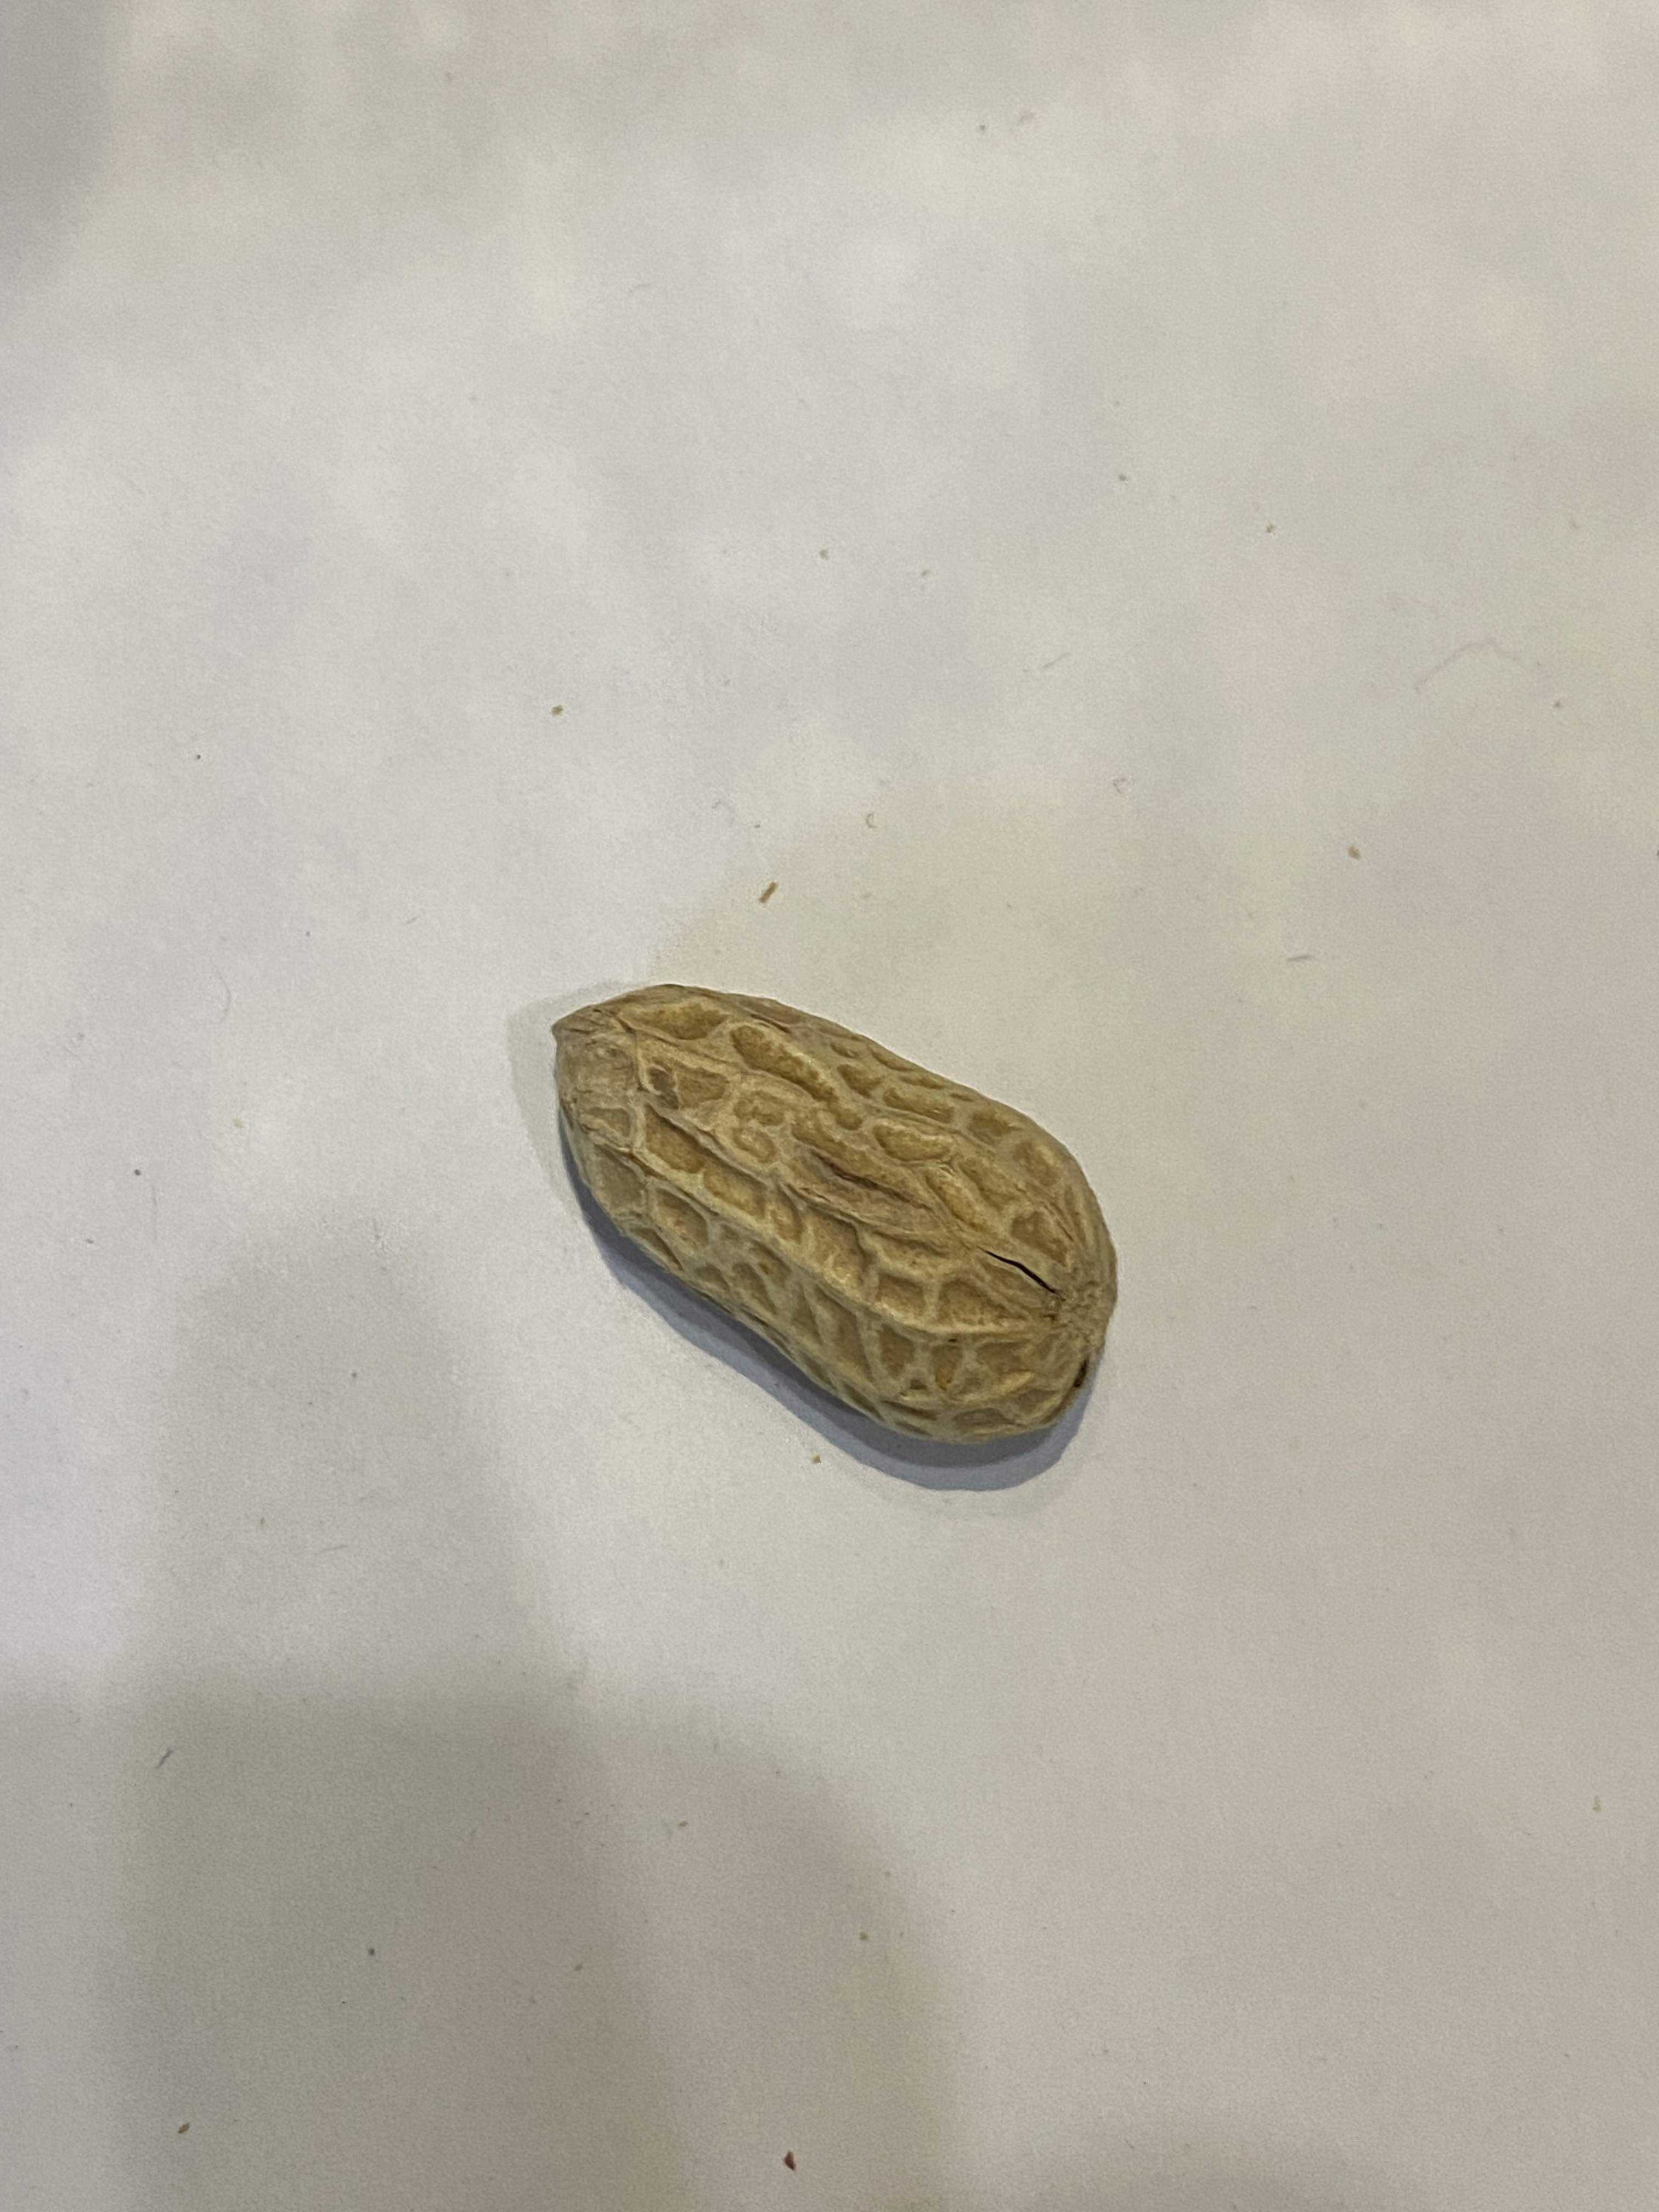kacang1: (530, 975, 1126, 1460)
